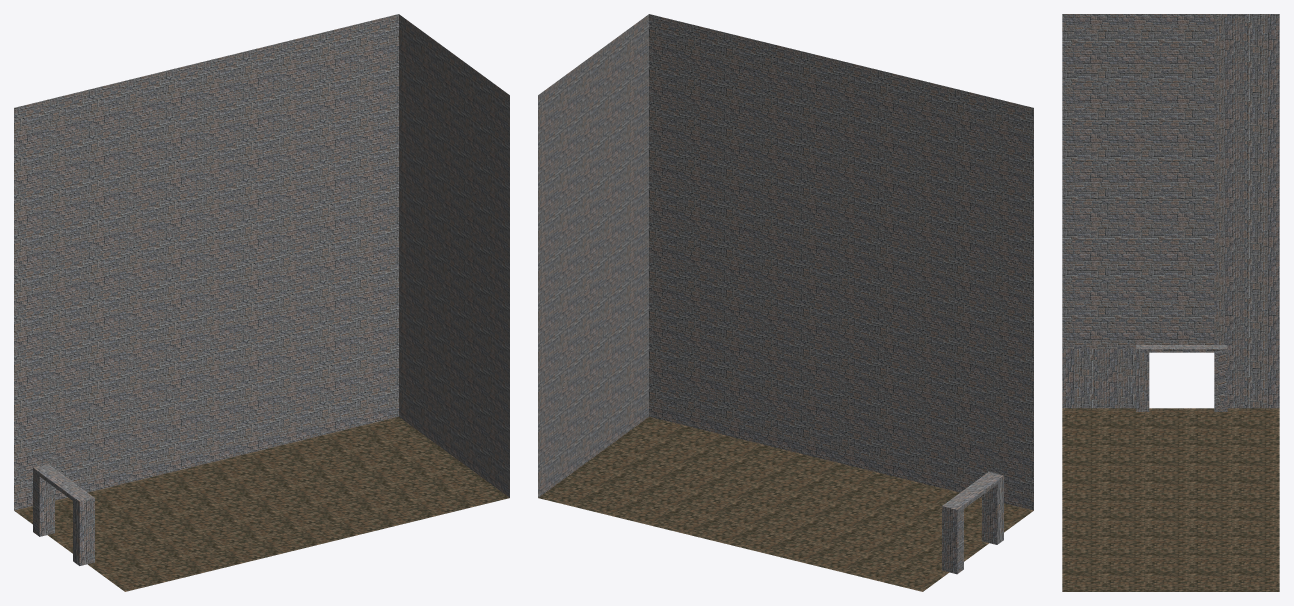
The model's file is room_preview.gltf.
3 renders of one model, left to right at view 1: azimuth 30°, elevation 25°; view 2: azimuth 150°, elevation 25°; view 3: azimuth 270°, elevation 25°, orthographic. The views are drawn at different scales.
Parts seen in each view (by area): view 1: b0_parent, door0_door0; view 2: b0_parent, door0_door0; view 3: b0_parent, door0_door0.
Boxes of the visible parts, bbox=[...] form: b0_parent: bbox=[14, 14, 509, 591]; door0_door0: bbox=[33, 464, 94, 565]; b0_parent: bbox=[538, 14, 1033, 591]; door0_door0: bbox=[942, 472, 1003, 574]; b0_parent: bbox=[1062, 14, 1279, 591]; door0_door0: bbox=[1136, 345, 1227, 411].
Size of the model in its own units: 10.2 by 10 by 5.
Materials: 3 (3 with a texture image).
